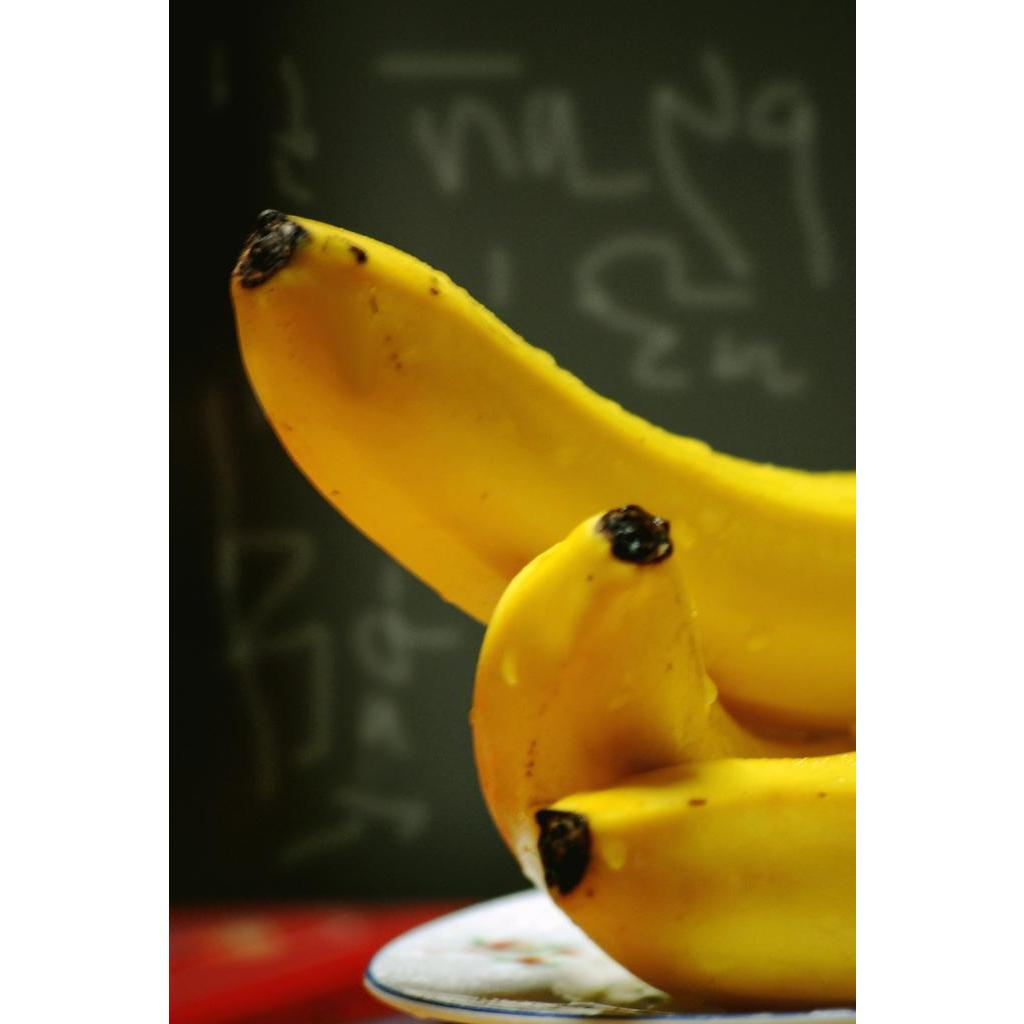banana: (226, 210, 855, 758), (474, 490, 854, 896), (528, 753, 855, 1010)
